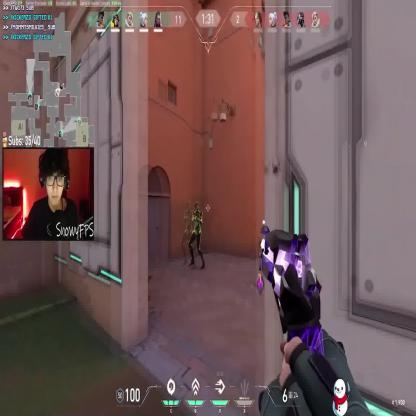enemy: (187, 202, 205, 268)
enemy_head: (194, 201, 199, 213)
